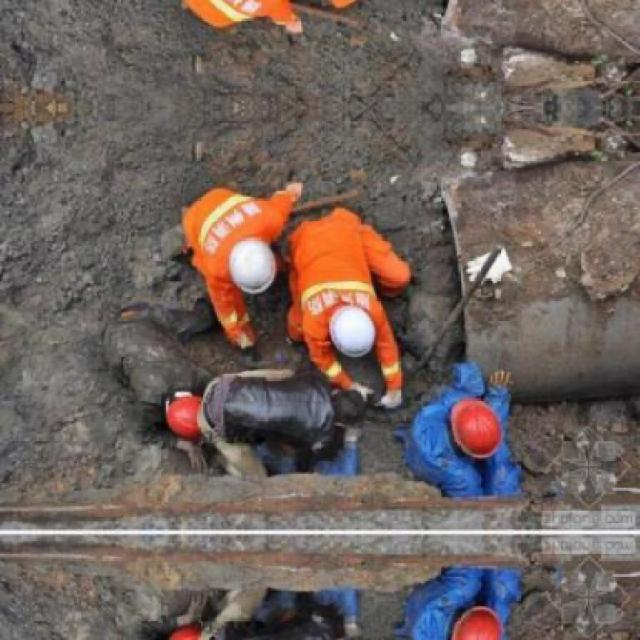helmet: (444, 396, 502, 456), (326, 304, 383, 362), (226, 241, 279, 294), (166, 392, 211, 438), (443, 606, 502, 639), (164, 623, 210, 639)
